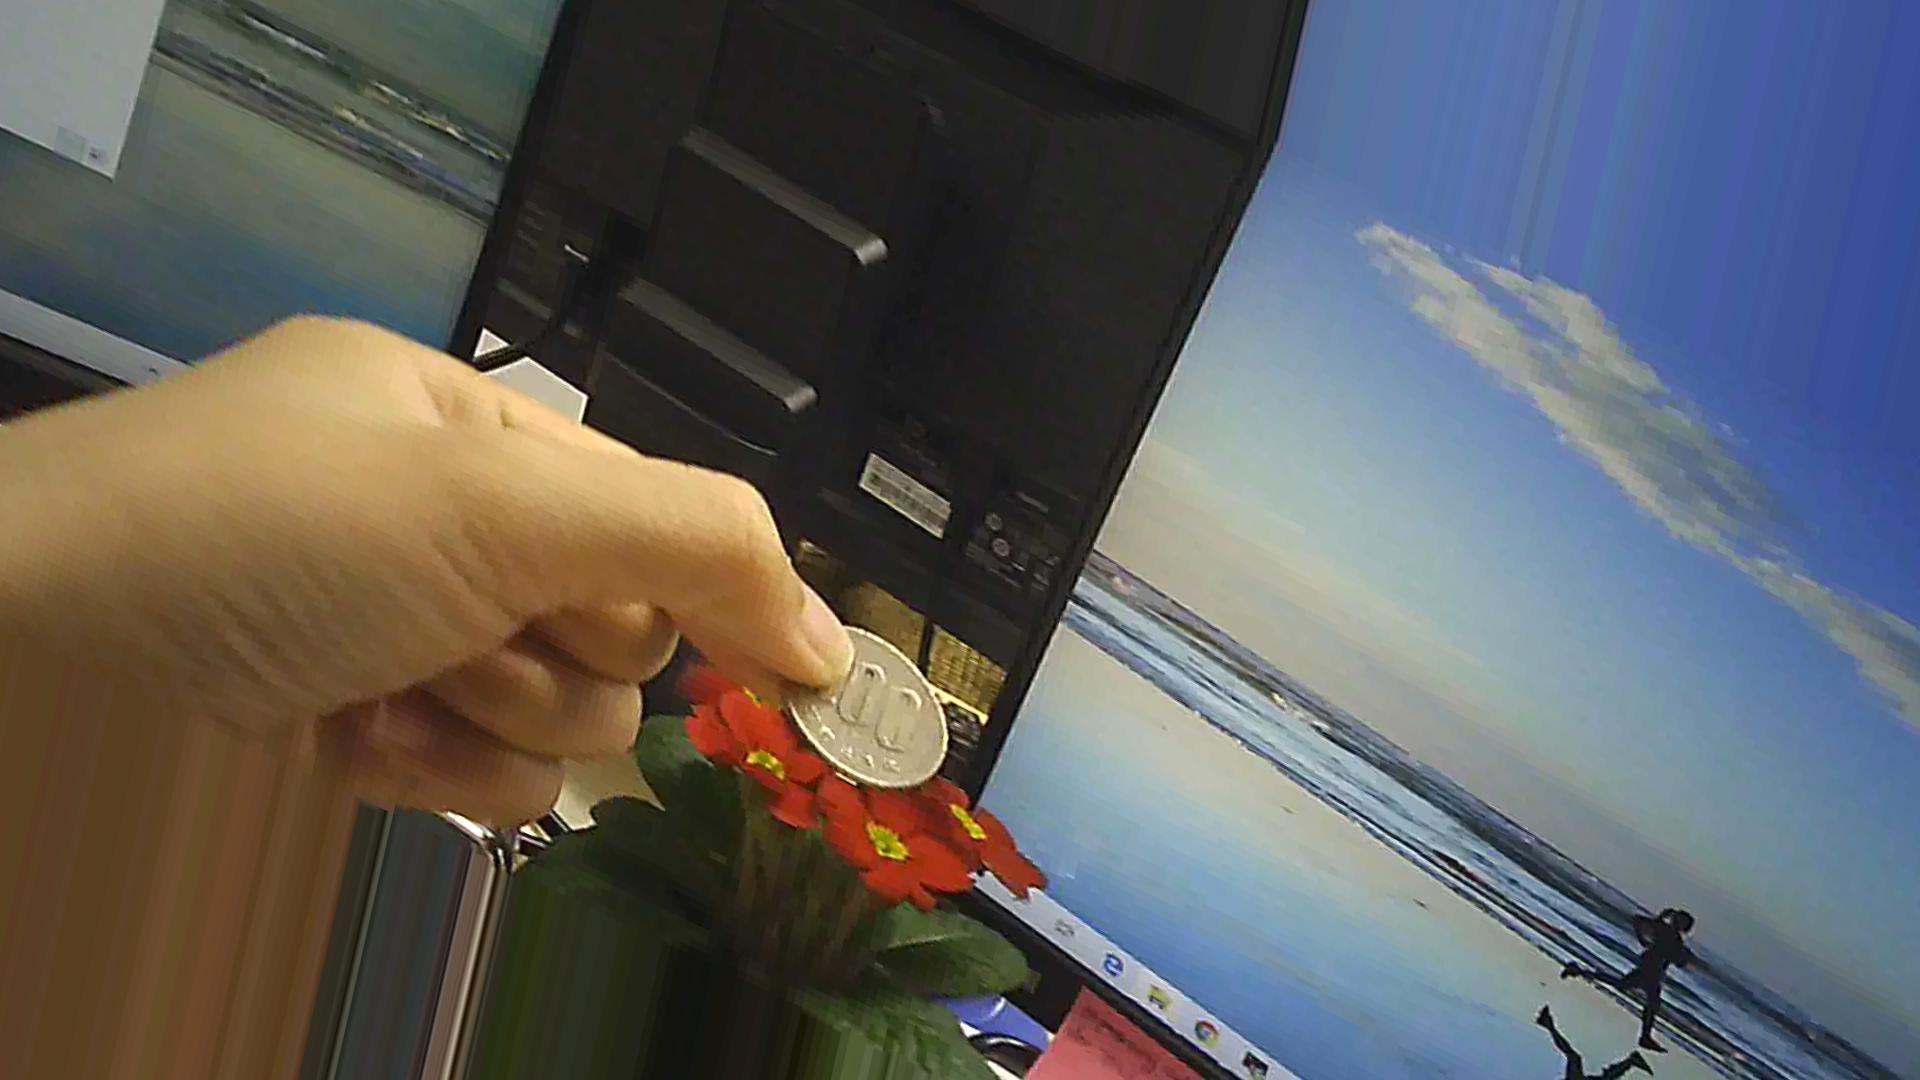100 Yen: (771, 611, 982, 822)
